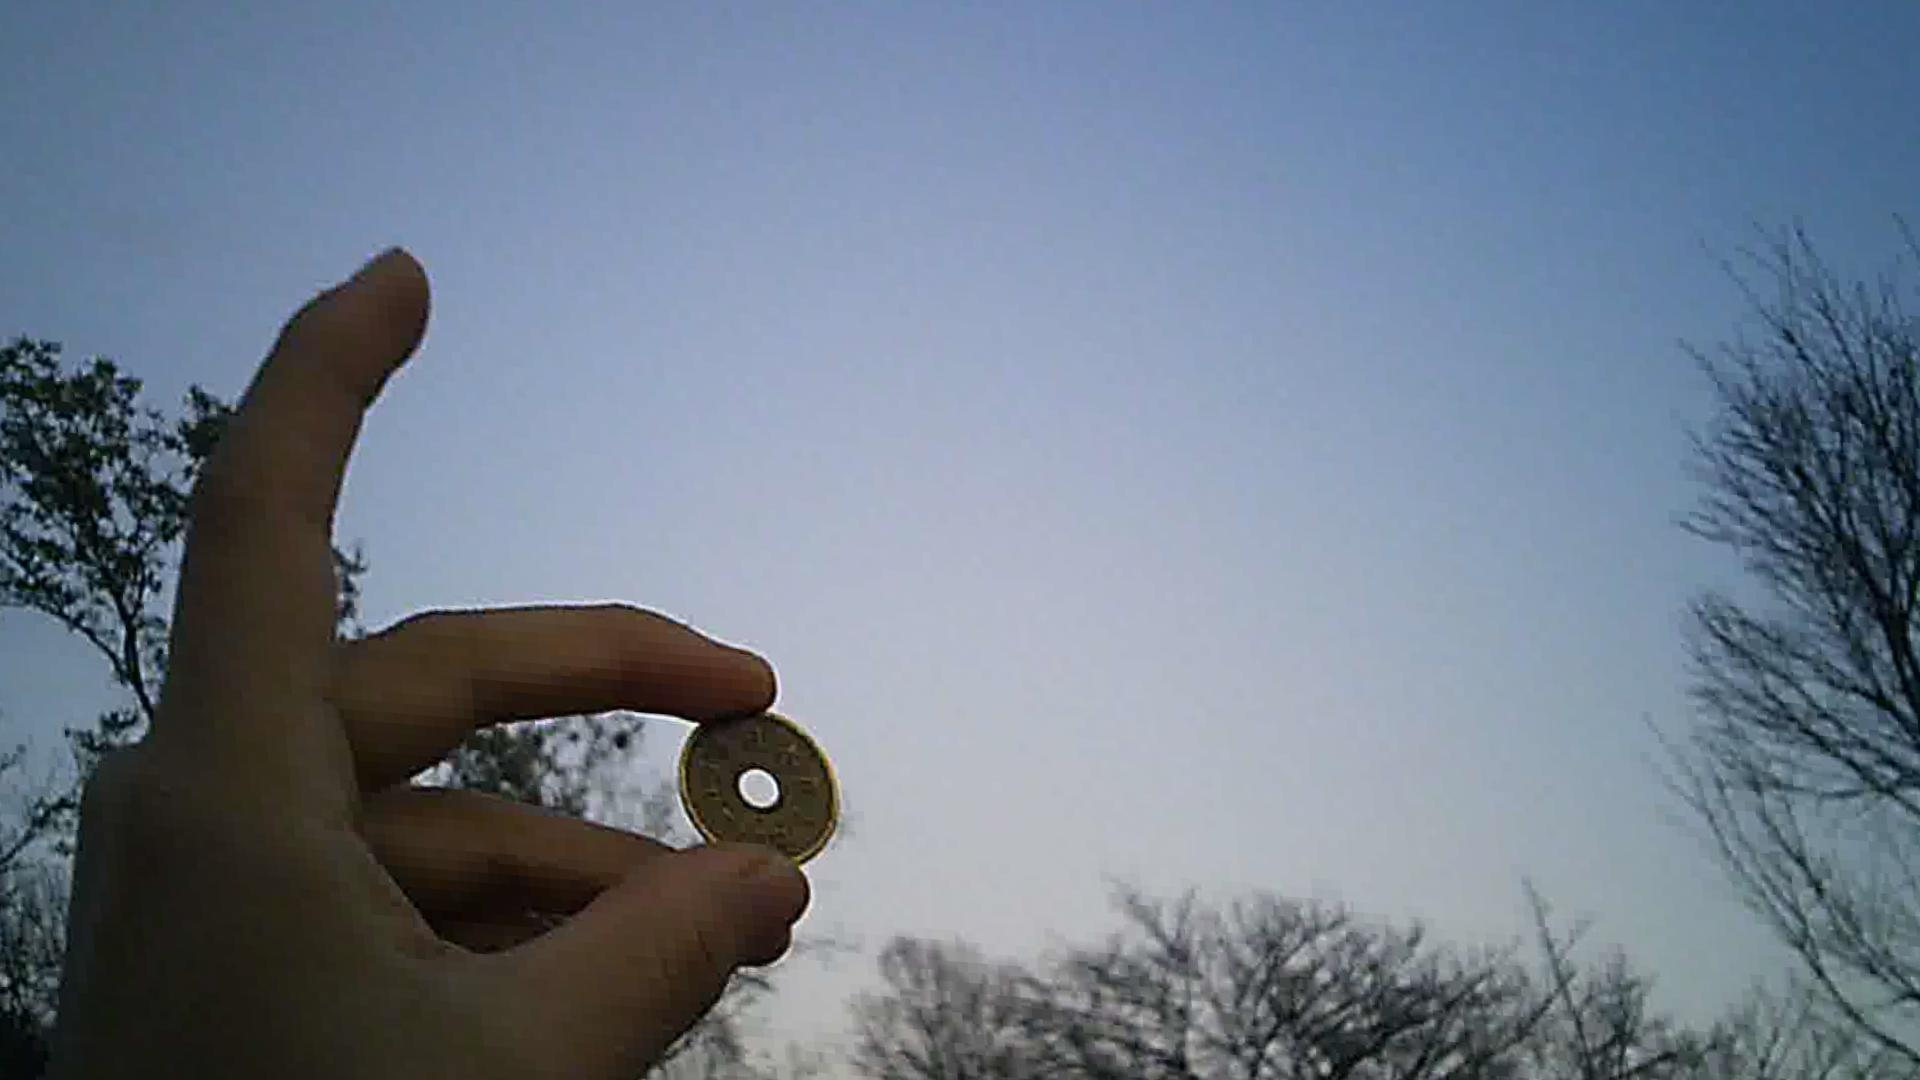5 Yen: (673, 698, 855, 857)
